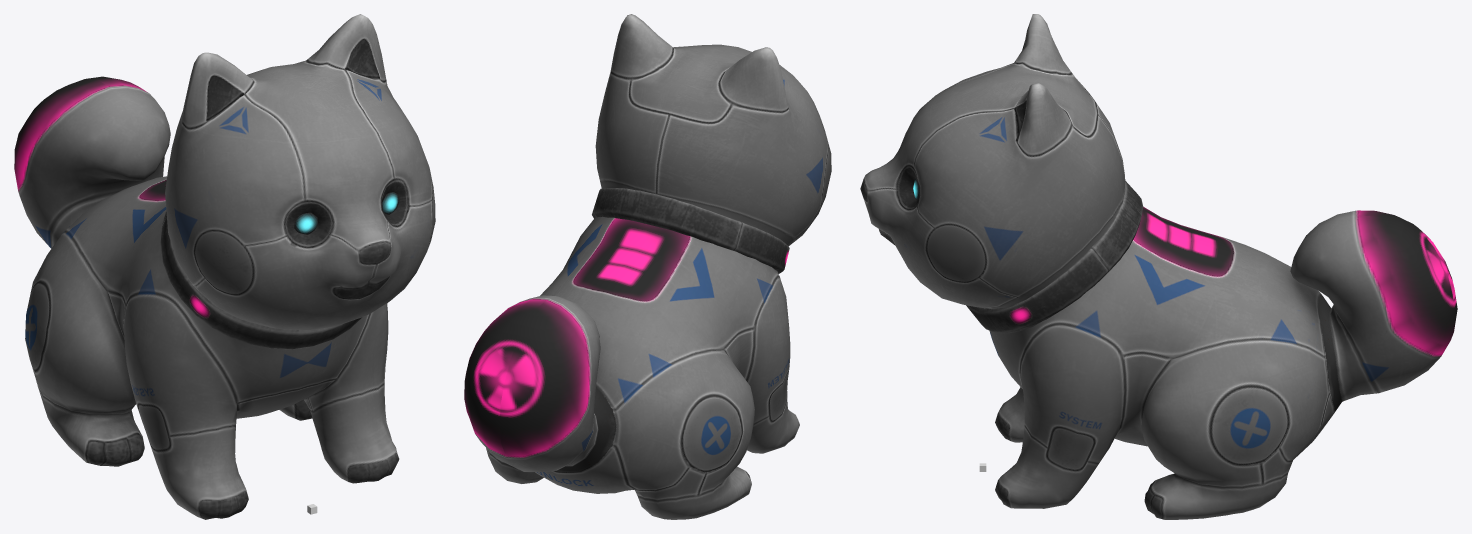
The picture shows the model from 3 angles, left to right: view 1: azimuth 30°, elevation 25°; view 2: azimuth 150°, elevation 25°; view 3: azimuth 270°, elevation 25°; orthographic projection. The views are drawn at different scales.
Parts seen in each view (by area): view 1: Shiba; view 2: Shiba; view 3: Shiba.
Part boxes in pixels (x1,y1,x2,y2): Shiba: (14, 14, 435, 519); Shiba: (464, 14, 831, 519); Shiba: (860, 14, 1457, 519).
Size of the model in its own units: 92.09 by 138 by 177.
2 materials, 1 textured.
